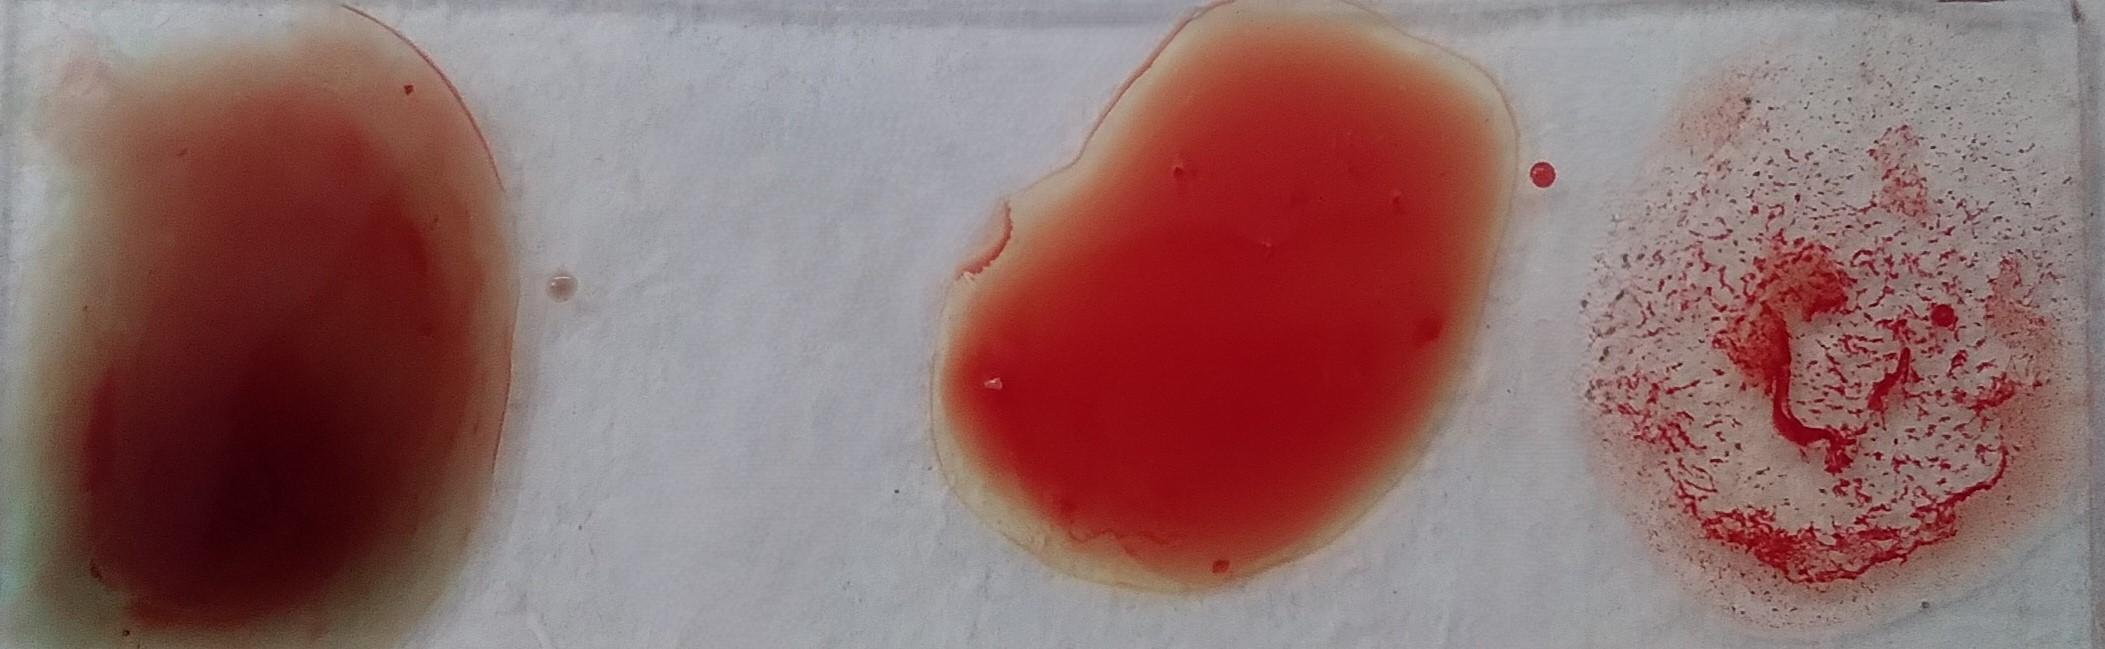D: (1615, 35, 2094, 614)
